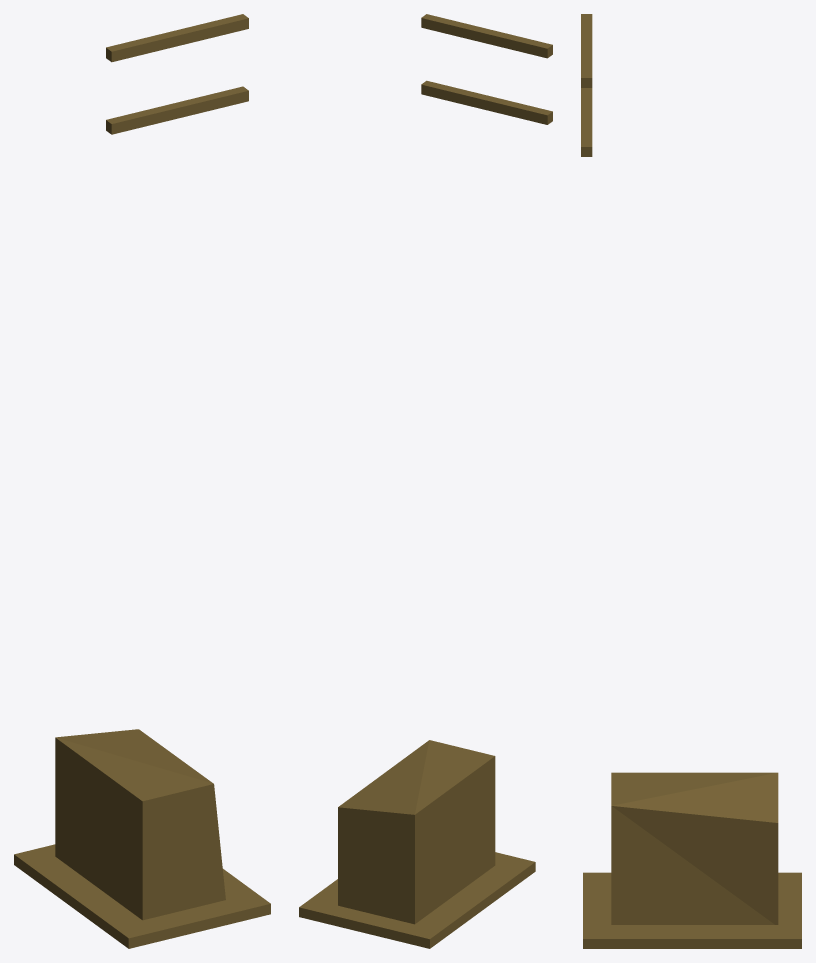
The model's file is floodlight-stand.lod2.glb.
3 renders of one model, left to right at view 1: azimuth 30°, elevation 25°; view 2: azimuth 150°, elevation 25°; view 3: azimuth 270°, elevation 25°, orthographic. The views are drawn at different scales.
Parts seen in each view (by area): view 1: pCylinder6_lambert1_0; view 2: pCylinder6_lambert1_0; view 3: pCylinder6_lambert1_0.
Boxes of the visible parts, x1=… form: pCylinder6_lambert1_0: x1=14, y1=14, x2=270, y2=948; pCylinder6_lambert1_0: x1=299, y1=14, x2=552, y2=948; pCylinder6_lambert1_0: x1=581, y1=14, x2=801, y2=948.
Size of the model in its own units: 0.6963 by 3.75 by 0.8712.
